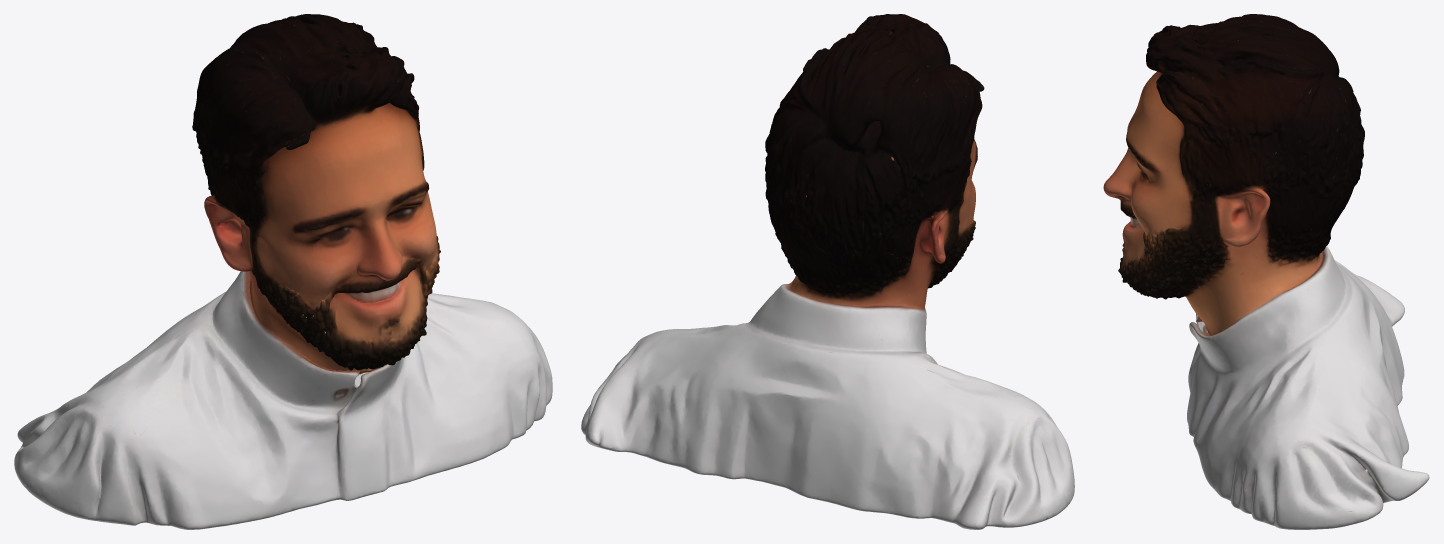
File: mush-trellis2.glb
3 renders of one model, left to right at view 1: azimuth 30°, elevation 25°; view 2: azimuth 150°, elevation 25°; view 3: azimuth 270°, elevation 25°, orthographic. The views are drawn at different scales.
Visible parts, largest first — view 1: world; view 2: world; view 3: world.
Part boxes in pixels (x1,y1,x2,y2): world: [14, 14, 552, 529]; world: [581, 14, 1074, 529]; world: [1103, 14, 1429, 529].
Bounding box in the file's own units: 1 × 0.8596 × 0.6354.
1 material, 1 textured.
